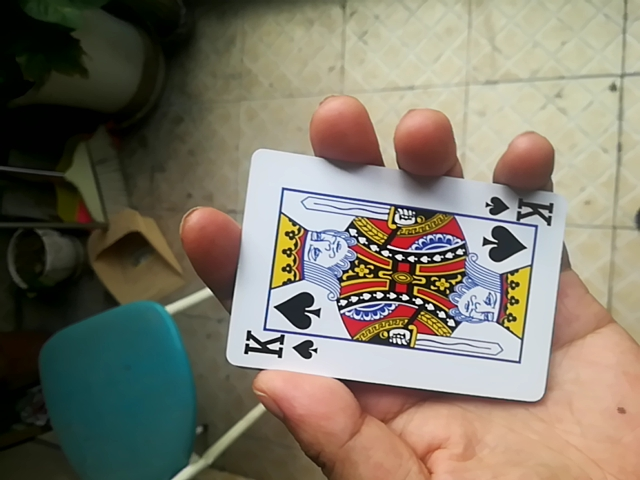ht k: (221, 147, 564, 414)
